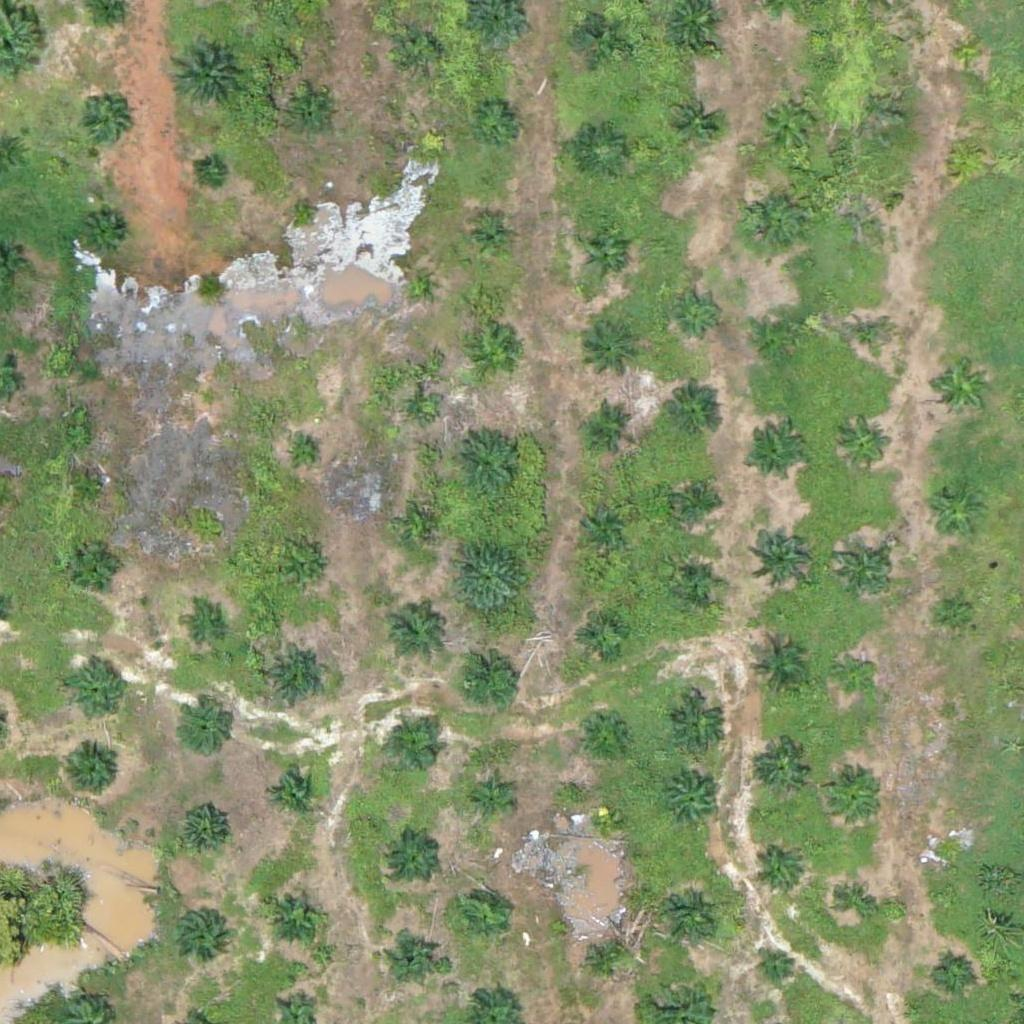Kelapa_Sawit: (448, 425, 523, 501), (452, 643, 527, 719), (452, 539, 527, 615), (169, 37, 244, 113), (381, 598, 444, 661), (923, 480, 986, 543), (666, 694, 729, 757), (266, 644, 329, 707), (582, 318, 645, 381), (740, 189, 803, 252), (930, 357, 993, 420), (661, 387, 724, 450), (745, 425, 807, 488), (658, 886, 720, 949), (746, 638, 808, 701), (833, 539, 895, 602), (749, 522, 811, 585), (60, 741, 122, 804), (264, 883, 326, 946), (64, 659, 126, 722), (758, 92, 820, 155), (663, 773, 725, 835), (839, 418, 889, 469), (180, 703, 230, 754), (177, 804, 227, 855), (268, 768, 318, 819), (70, 540, 120, 591), (576, 126, 626, 177), (574, 8, 624, 59), (395, 24, 445, 75), (471, 97, 521, 148), (669, 97, 719, 148), (843, 312, 893, 363), (755, 310, 805, 361), (673, 287, 723, 338), (581, 229, 631, 280), (389, 929, 439, 979), (392, 723, 442, 773), (388, 833, 438, 883), (578, 706, 628, 756), (577, 610, 627, 660), (759, 741, 809, 791), (829, 773, 879, 823), (455, 889, 505, 939), (174, 907, 224, 957), (470, 331, 520, 381), (582, 932, 632, 982), (289, 91, 339, 141), (671, 476, 721, 526), (673, 560, 723, 610), (579, 496, 629, 546), (584, 401, 634, 451), (466, 214, 516, 264), (754, 845, 804, 895), (78, 97, 128, 147), (81, 211, 131, 261), (470, 779, 508, 817), (183, 609, 221, 647), (757, 947, 795, 985), (951, 35, 989, 73), (947, 135, 985, 173), (834, 658, 872, 696), (932, 841, 970, 879), (838, 883, 876, 921), (288, 552, 325, 590), (937, 955, 975, 992), (854, 187, 891, 225), (72, 470, 109, 508), (937, 595, 974, 632), (198, 160, 223, 186), (410, 516, 435, 542), (403, 271, 428, 296), (408, 399, 433, 424), (291, 442, 316, 467), (291, 198, 316, 223), (591, 807, 616, 832), (197, 387, 222, 412)
